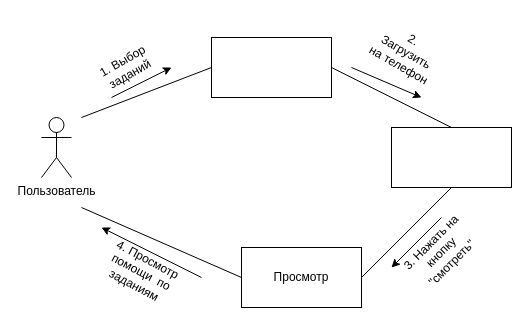
The diagram is 529 pixels wide and 327 high, and some of its shapes have lost their labels. The shapes that lost their labels are listed below. From the top down, each one's centre as x and y in pixels, then its label:
point 271,67: Задания
point 451,157: Телефон
